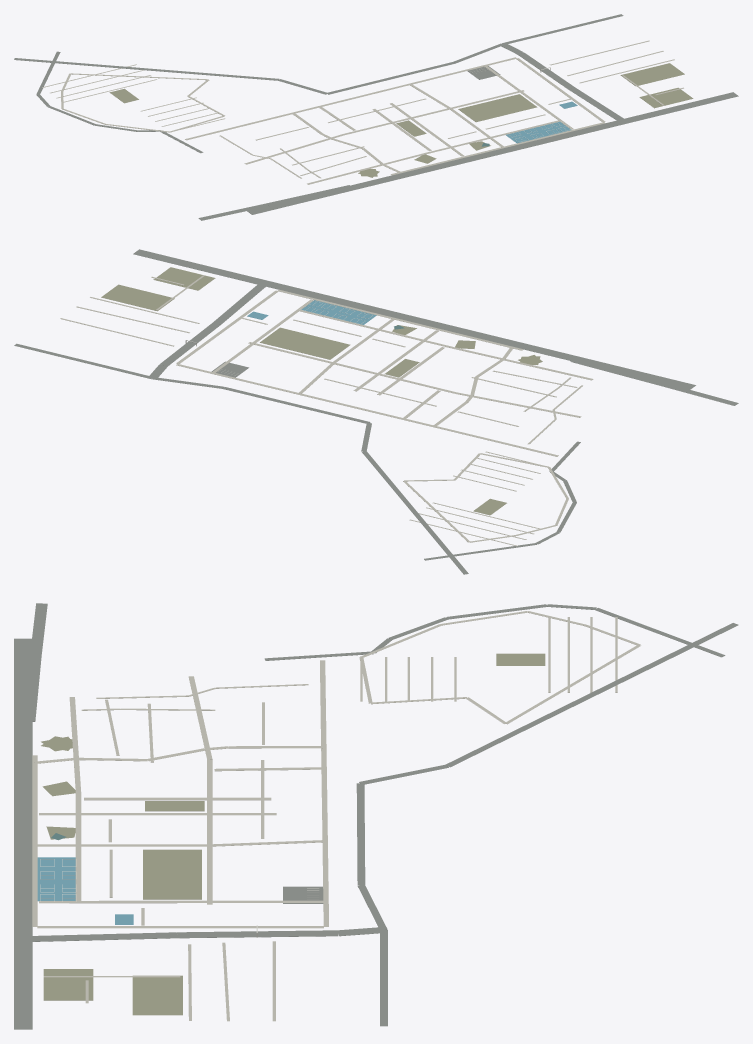
File: shared-00-far.glb
3 renders of one model, top to bottom at view 1: azimuth 30°, elevation 25°; view 2: azimuth 150°, elevation 25°; view 3: azimuth 270°, elevation 25°, orthographic. The views are drawn at different scales.
Parts seen in each view (by area): view 1: 邯郸路.001, 国旗坪.001, Campus east west road.008, 东区草坪.001, 北侧边界道路.005, 室外球场.001, 新闻学院庭院.001, Campus east west road.015, 国定路.004, 北侧边界道路.007, 国定路.003, 北侧边界道路.009; view 2: 邯郸路.001, 国旗坪.001, 东区草坪.001, Campus east west road.008, 室外球场.001, 北侧边界道路.005, 新闻学院庭院.001, Campus east west road.015; view 3: 邯郸路.001, 国旗坪.001, 东区草坪.001, 室外球场.001, 北侧边界道路.005, Campus east west road.008, 新闻学院庭院.001, 国定路.004, 国定路.003, Campus east west road.015, Campus north south road.022, Campus north south road.023 (+5 smaller).
Boxes of the visible parts, x1,y1,x2,y2 form: 邯郸路.001: [247, 92, 738, 214]; 国旗坪.001: [458, 94, 537, 122]; Campus east west road.008: [185, 57, 516, 140]; 东区草坪.001: [620, 63, 684, 86]; 北侧边界道路.005: [14, 58, 279, 80]; 室外球场.001: [506, 121, 571, 143]; 新闻学院庭院.001: [639, 87, 693, 108]; Campus east west road.015: [390, 122, 605, 175]; 国定路.004: [517, 52, 574, 89]; 北侧边界道路.007: [327, 62, 454, 94]; 国定路.003: [568, 87, 626, 122]; 北侧边界道路.009: [502, 14, 623, 43]; 邯郸路.001: [133, 249, 695, 389]; 国旗坪.001: [260, 327, 350, 359]; 东区草坪.001: [101, 284, 174, 311]; Campus east west road.008: [176, 364, 558, 456]; 室外球场.001: [301, 300, 376, 324]; 北侧边界道路.005: [361, 451, 468, 574]; 新闻学院庭院.001: [153, 267, 215, 290]; Campus east west road.015: [277, 289, 523, 350]; 邯郸路.001: [14, 638, 32, 1029]; 国旗坪.001: [143, 849, 201, 899]; 东区草坪.001: [132, 975, 182, 1015]; 室外球场.001: [37, 857, 75, 901]; 北侧边界道路.005: [445, 623, 738, 767]; Campus east west road.008: [320, 660, 328, 926]; 新闻学院庭院.001: [43, 969, 93, 1000]; 国定路.004: [177, 930, 338, 938]; 国定路.003: [23, 932, 177, 941]; Campus east west road.015: [32, 755, 37, 926]; Campus north south road.022: [39, 900, 326, 903]; Campus north south road.023: [37, 926, 323, 928].
Size of what is drawn, in the model's own units: 1038 by 5.38 by 746.
